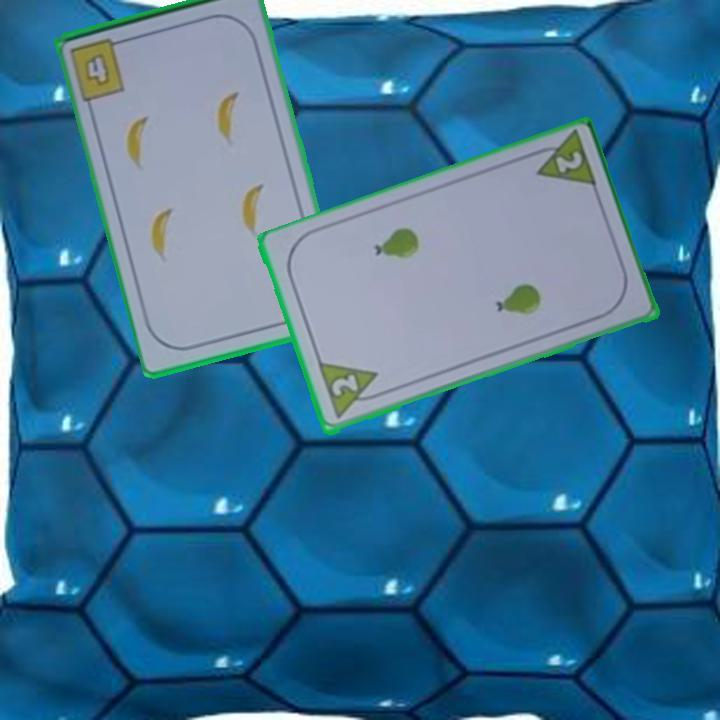2p: (314, 359, 387, 423), (525, 129, 599, 192)
4b: (66, 34, 130, 104)
